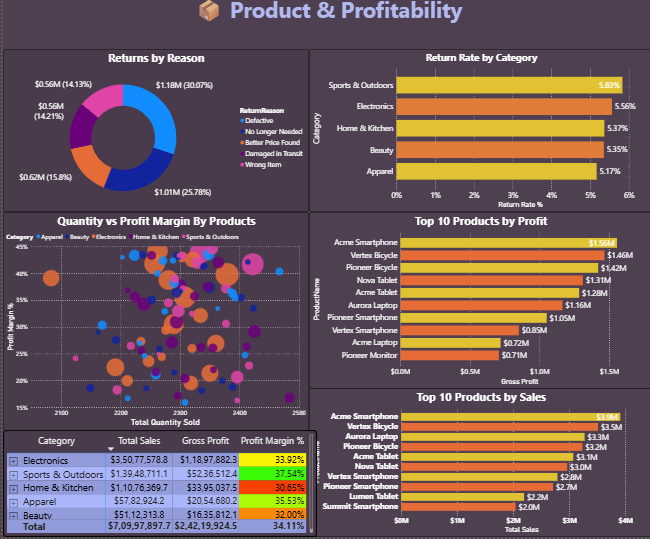

What the dashboard file says about the page in this screenshot:
{"tool":"powerbi","page":{"name":"Product & Profitability","canvas":[1800,1500],"ordinal":1},"visuals":[{"type":"clusteredBarChart","title":"Top 10 Products by Sales","fields":{"Category":["dim_products.ProductName"],"Y":["_Measures.Total Sales"]},"box":[846.9,1087.6,952,412.4],"z":0},{"type":"clusteredBarChart","title":"Top 10 Products by Profit ","fields":{"Category":["dim_products.ProductName"],"Y":["_Measures.Gross Profit"]},"box":[847.6,600.6,951.2,487.8],"z":1000},{"type":"pivotTable","fields":{"Rows":["dim_products.Category","dim_products.Brand"],"Values":["_Measures.Total Sales","_Measures.Gross Profit","_Measures.Profit Margin %"]},"box":[0,1204.3,868.9,295.7],"z":2000},{"type":"clusteredBarChart","title":"Return Rate by Category","fields":{"Category":["dim_products.Category"],"Y":["_Measures.Return Rate %"]},"box":[846.9,149.4,952,451.1],"z":3000},{"type":"donutChart","title":"Returns by Reason","fields":{"Category":["fact_returns.ReturnReason"],"Y":["_Measures.Total Returns"]},"box":[0,149.4,847.3,450.6],"z":4000},{"type":"scatterChart","title":"Quantity vs Profit Margin By Products","fields":{"Category":["dim_products.ProductName"],"X":["_Measures.Total Quantity Sold"],"Y":["_Measures.Profit Margin %"],"Series":["dim_products.Category"],"Size":["_Measures.Total Sales"]},"box":[0,600,847.3,604.9],"z":5000},{"type":"textbox","title":"📦 Product & Profitability","box":[0,0,1800,149.4],"z":6000}]}

Visuals, with their boxes in screenshot pixels (x1, y1, x2, y2), scaled from the page's 1800x1500 canvas onto the 650x539 screenshot:
"Top 10 Products by Sales" clusteredBarChart: {"x1": 306, "y1": 391, "x2": 649, "y2": 538}
"Top 10 Products by Profit " clusteredBarChart: {"x1": 306, "y1": 216, "x2": 649, "y2": 391}
pivotTable - dim_products.Category x dim_products.Brand: {"x1": 0, "y1": 433, "x2": 314, "y2": 538}
"Return Rate by Category" clusteredBarChart: {"x1": 306, "y1": 54, "x2": 649, "y2": 216}
"Returns by Reason" donutChart: {"x1": 0, "y1": 54, "x2": 306, "y2": 216}
"Quantity vs Profit Margin By Products" scatterChart: {"x1": 0, "y1": 216, "x2": 306, "y2": 433}
"📦 Product & Profitability" textbox: {"x1": 0, "y1": 0, "x2": 649, "y2": 54}
